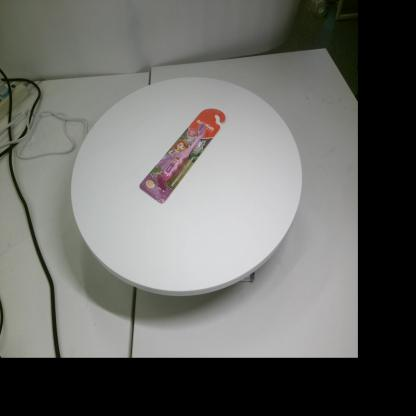Personal Hygiene: (139, 108, 225, 204)
